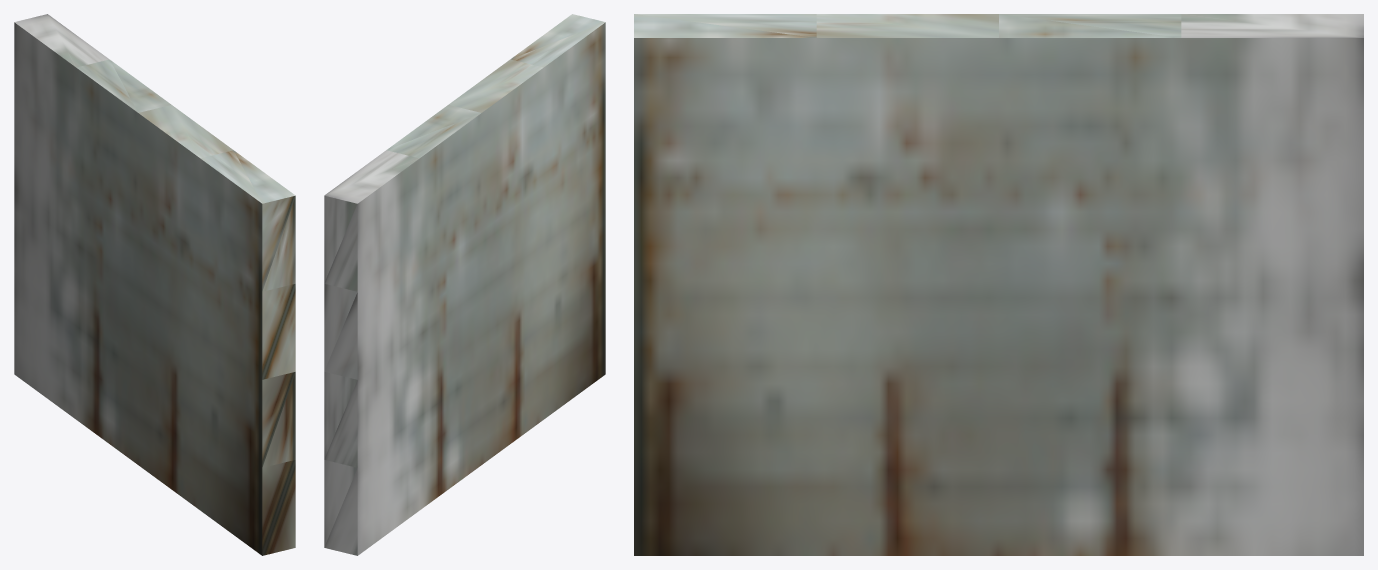
Rendered from hoteldoorbreak_wtf.obj.
3 renders of one model, left to right at view 1: azimuth 30°, elevation 25°; view 2: azimuth 150°, elevation 25°; view 3: azimuth 270°, elevation 25°, orthographic. The views are drawn at different scales.
Visible parts, largest first — view 1: group1; view 2: group1; view 3: group1.
Boxes of the visible parts, x1=… form: group1: x1=14, y1=14, x2=295, y2=555; group1: x1=324, y1=14, x2=605, y2=555; group1: x1=634, y1=14, x2=1363, y2=555.
Size of the model in its own units: 51.41 by 517 by 660.
